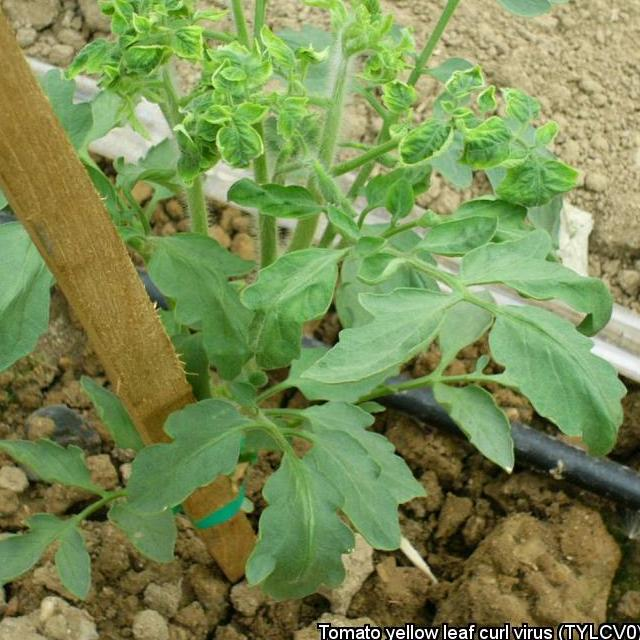Tomato leaf: (490, 302, 621, 467), (317, 265, 486, 378), (139, 221, 261, 368), (242, 447, 355, 604), (123, 397, 247, 520), (302, 427, 416, 550), (430, 376, 518, 470), (0, 217, 48, 379), (0, 429, 108, 493), (411, 211, 499, 261), (481, 0, 583, 22)
